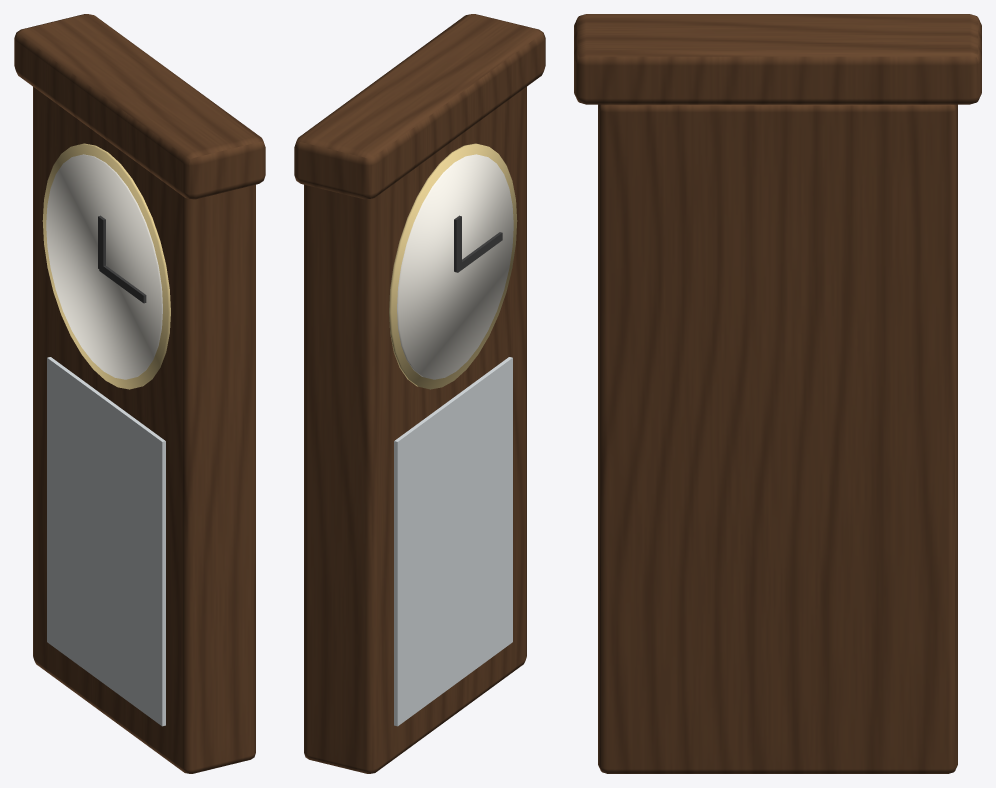
File: escena.casa.recuerdo_herencia.fbx
The picture shows the model from 3 angles, left to right: view 1: azimuth 30°, elevation 25°; view 2: azimuth 150°, elevation 25°; view 3: azimuth 270°, elevation 25°; orthographic projection. The views are drawn at different scales.
Visible parts, largest first — view 1: Caja, Vidrio, Remate, Esfera, Bisel, Minutero; view 2: Caja, Vidrio, Remate, Esfera, Bisel, Minutero; view 3: Caja, Remate.
Boxes of the visible parts, x1,y1,x2,y2 form: Caja: [33, 87, 255, 773]; Vidrio: [47, 357, 165, 726]; Remate: [14, 14, 265, 199]; Esfera: [46, 154, 162, 379]; Bisel: [42, 143, 170, 389]; Minutero: [99, 264, 146, 303]; Caja: [304, 87, 526, 773]; Vidrio: [394, 357, 512, 726]; Remate: [294, 14, 545, 199]; Esfera: [397, 154, 513, 379]; Bisel: [389, 143, 517, 389]; Minutero: [455, 232, 502, 272]; Caja: [598, 104, 957, 773]; Remate: [574, 14, 981, 104].
Bounding box in the file's own units: 0.09 × 0.665 × 0.34.
Materials: 5 (1 with a texture image).
